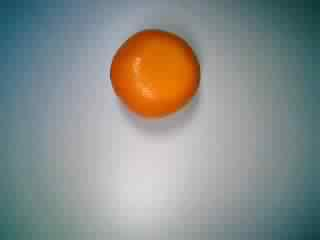orange: (108, 20, 203, 122)
